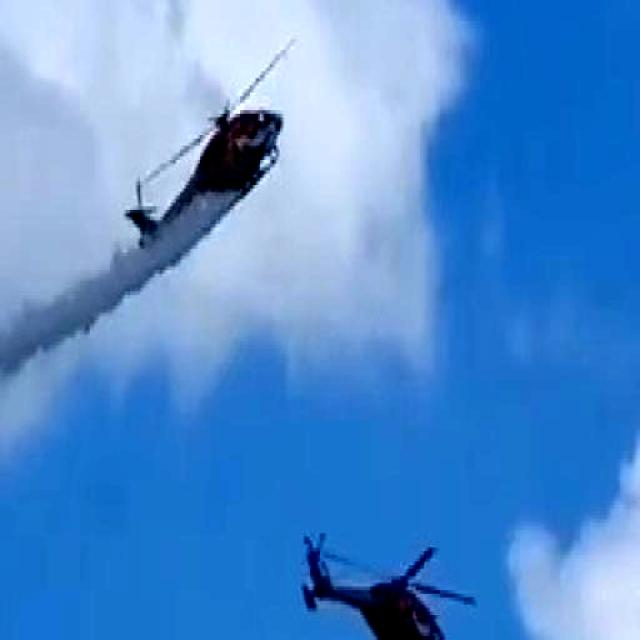drone: (120, 39, 299, 241), (302, 526, 478, 640)
